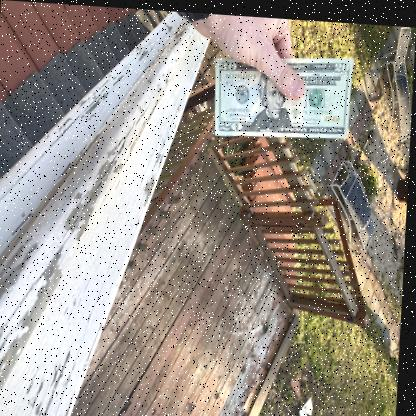twenty-front: (212, 53, 355, 146)
